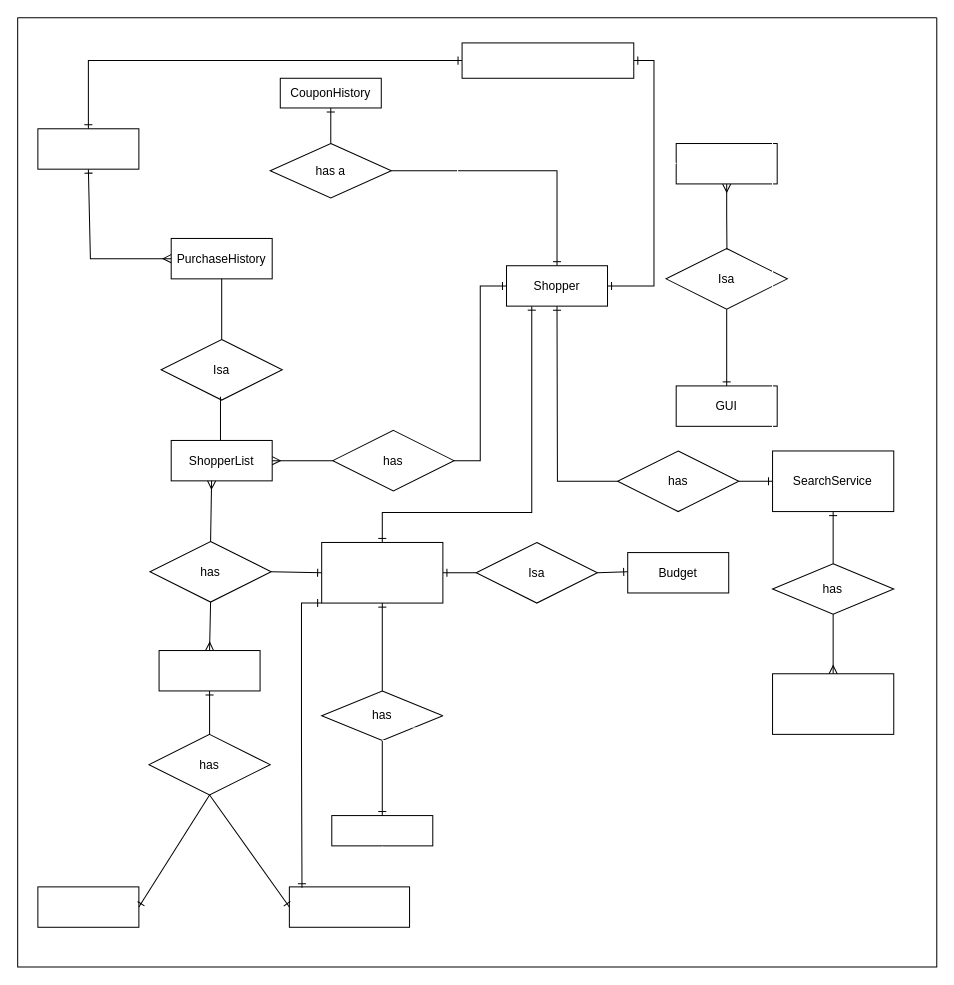
Some shapes in this 954 by 985 pixel diagram are drawn without their labels. Here are the shapes that lost their labels. From the top down, the box of each, then its label:
(461, 42, 634, 78): Account Information
(37, 128, 139, 169): Recommendation Algorithm
(675, 143, 777, 184): Window
(321, 541, 443, 603): ShoppingBudget
(158, 650, 260, 691): PriceData
(772, 673, 894, 734): GroceryStore
(331, 815, 433, 846): BudgetHistory
(37, 886, 139, 927): PTrackingHistory
(288, 886, 410, 927): TrackingReasoning
